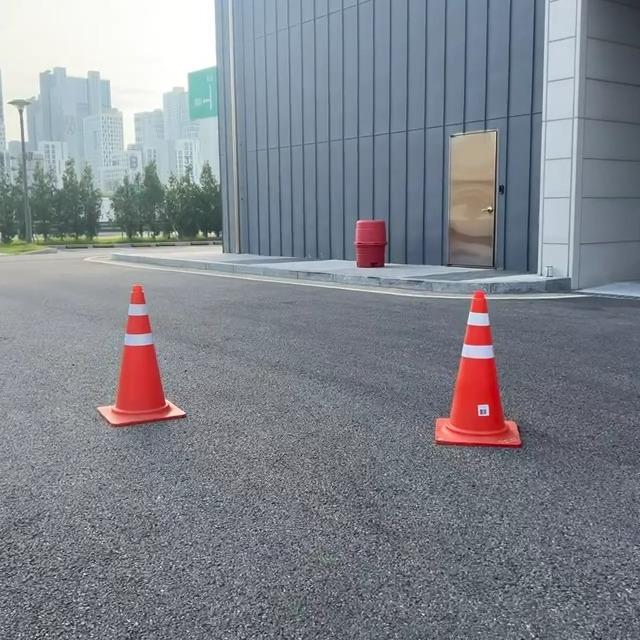fallen_object: (386, 265, 571, 473), (70, 259, 206, 460)
